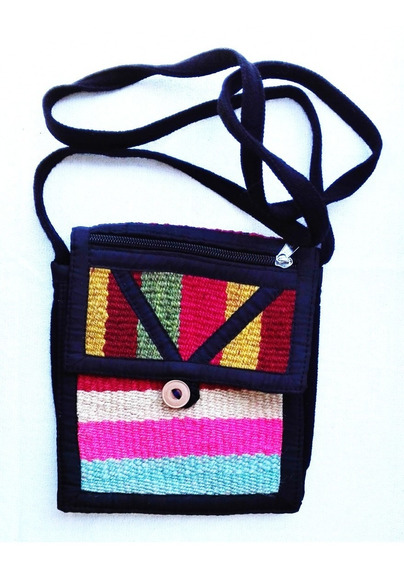cartera: (48, 220, 323, 515)
